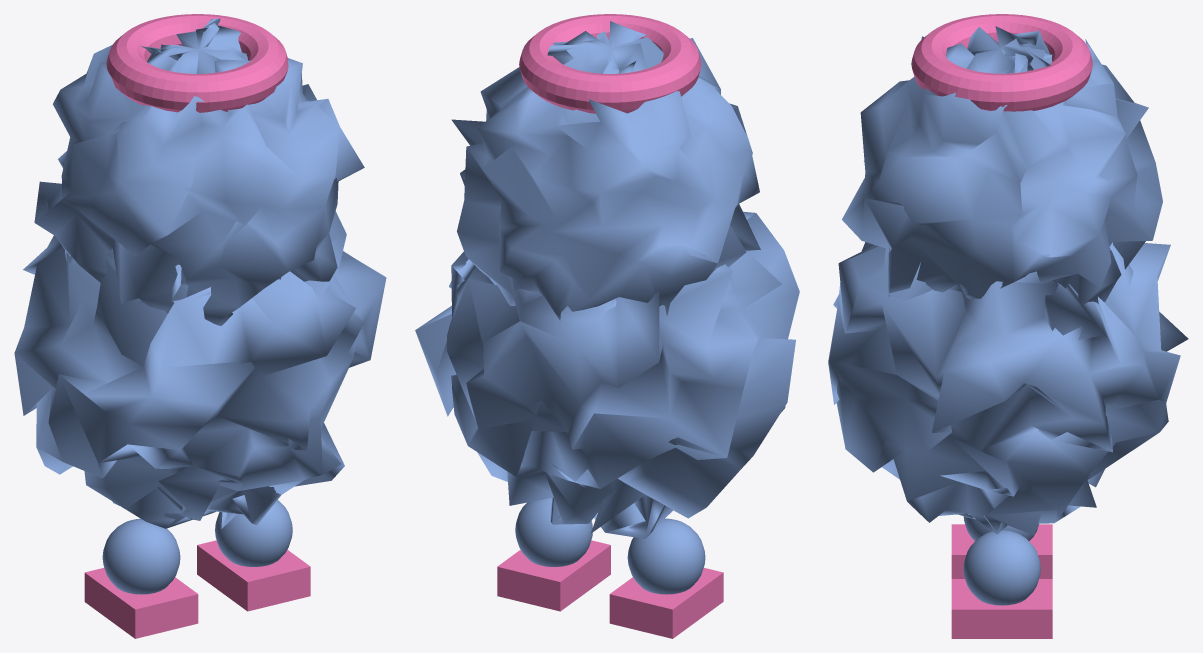
File: clay_baby_shark_bow.glb
The picture shows the model from 3 angles, left to right: view 1: azimuth 30°, elevation 25°; view 2: azimuth 150°, elevation 25°; view 3: azimuth 270°, elevation 25°; orthographic projection.
Visible parts, largest first — view 1: sneaker.001; view 2: sneaker.001; view 3: sneaker.001.
Boxes of the visible parts, x1,y1,x2,y2 form: sneaker.001: (14,14,386,638); sneaker.001: (415,14,799,638); sneaker.001: (828,14,1188,638).
Bounding box in the file's own units: 0.9203 × 1.53 × 0.8936.
